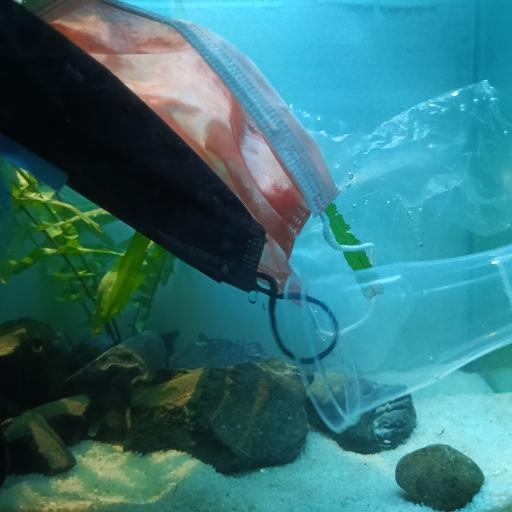mask: (17, 0, 402, 340), (0, 0, 339, 363)
plastic_bag: (268, 82, 512, 271)
plastic_cup: (278, 248, 512, 431)
